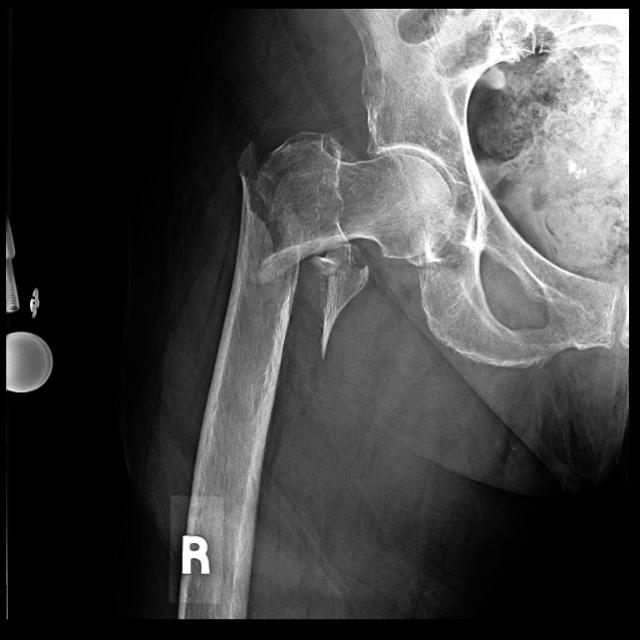right-intertrochanteric: (253, 130, 452, 283), (224, 141, 298, 337)
right-lesser-trochanter: (308, 244, 369, 359)
